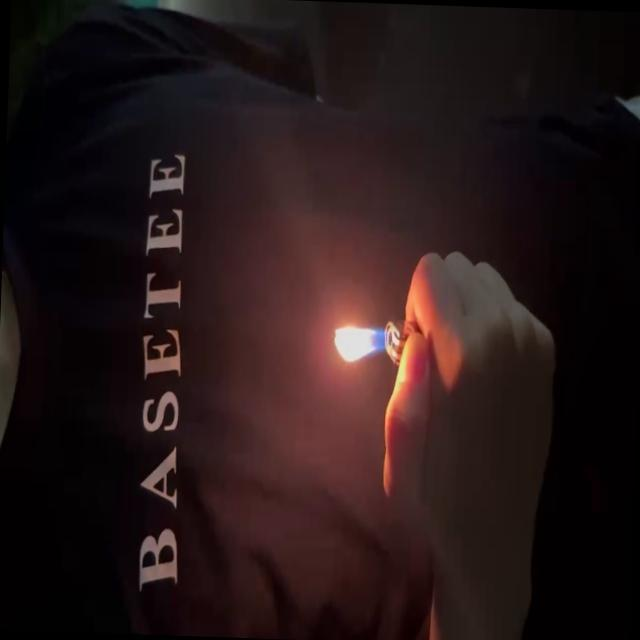Fire: (332, 310, 397, 366)
